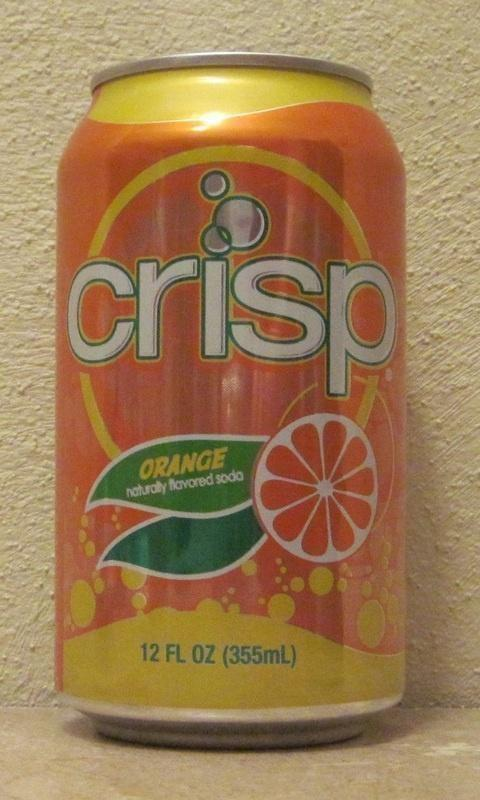tin can: (52, 51, 411, 753)
